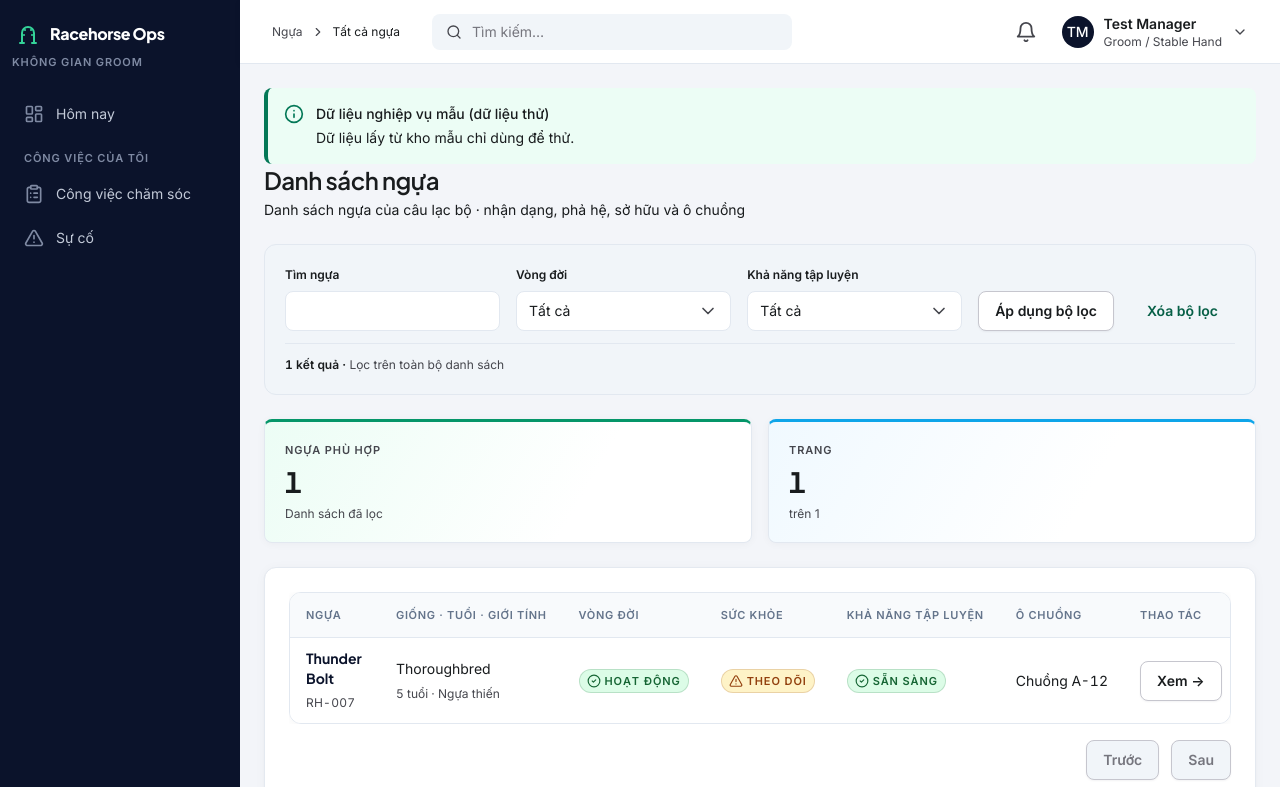
it: lists and opens the existing horse profile and keeps Vet clinical fields read-only
The image size is (1280, 787).
Click the link "Thunder Bolt RH-007" at {"x": 335, "y": 680}, box left=306, top=648, right=364, bottom=713
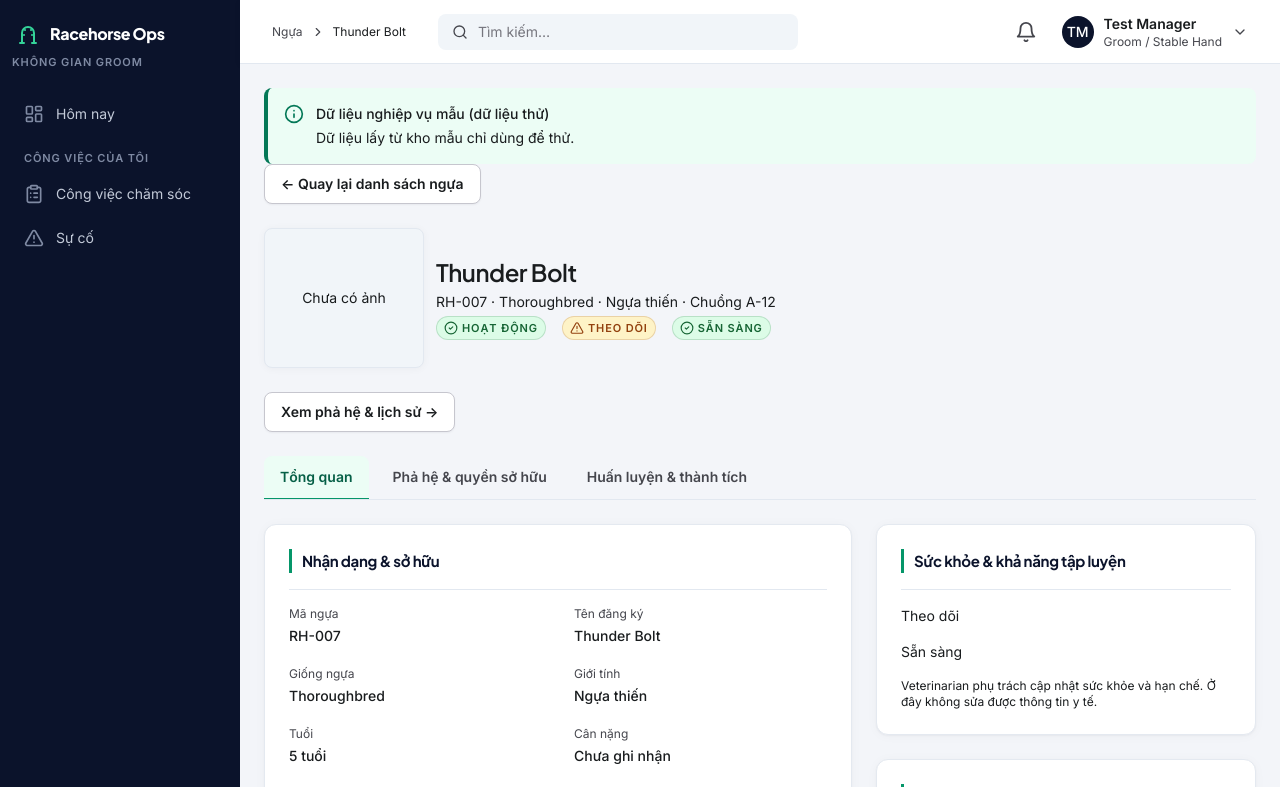
Check: the heading "Thunder Bolt" is shown, box left=436, top=257, right=577, bottom=287
